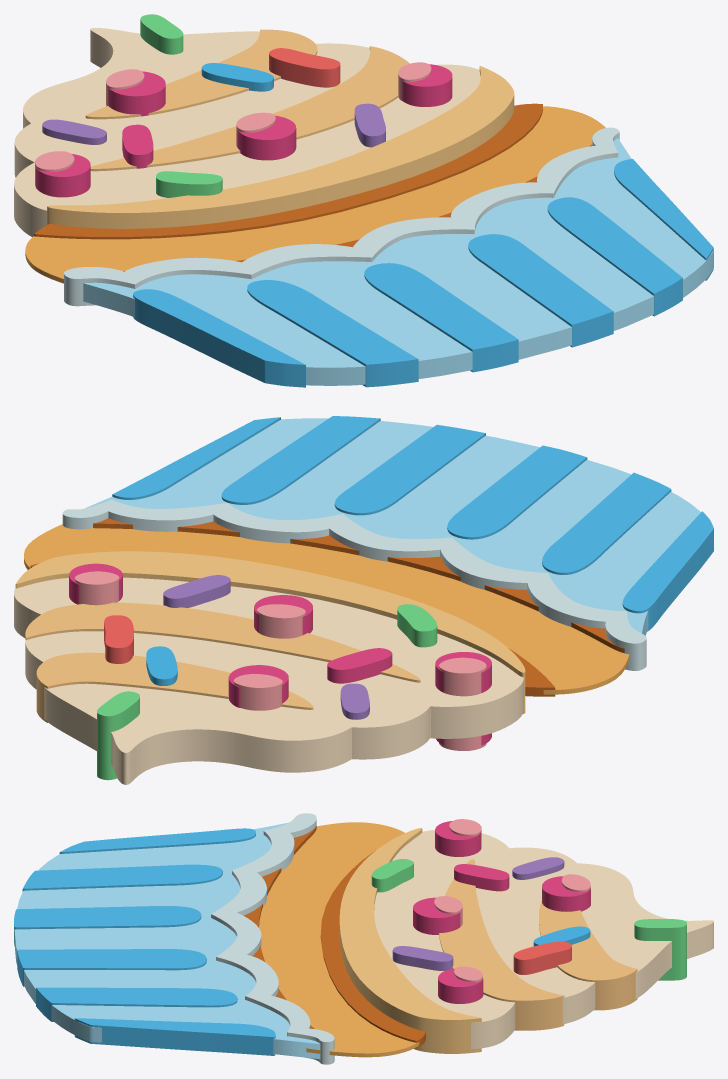
The model's file is emoji_u1f9c1.glb.
3 renders of one model, top to bottom at view 1: azimuth 30°, elevation 25°; view 2: azimuth 150°, elevation 25°; view 3: azimuth 270°, elevation 25°, orthographic. The views are drawn at different scales.
Visible parts, largest first — view 1: emoji_u1f9c1; view 2: emoji_u1f9c1; view 3: emoji_u1f9c1.
Part boxes in pixels (box(x1,y1,x2,y2)): emoji_u1f9c1: box(14, 14, 713, 387); emoji_u1f9c1: box(14, 416, 713, 784); emoji_u1f9c1: box(14, 813, 713, 1064).
Bounding box in the file's own units: 0.0264 × 0.0034 × 0.0337.
